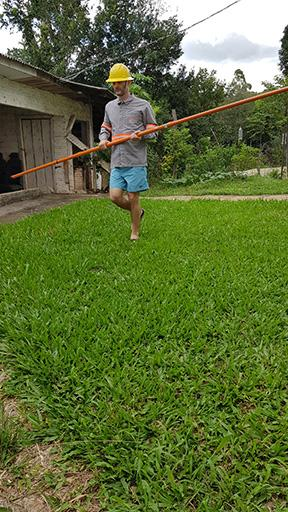Vara_Manobra: (10, 85, 287, 178)
